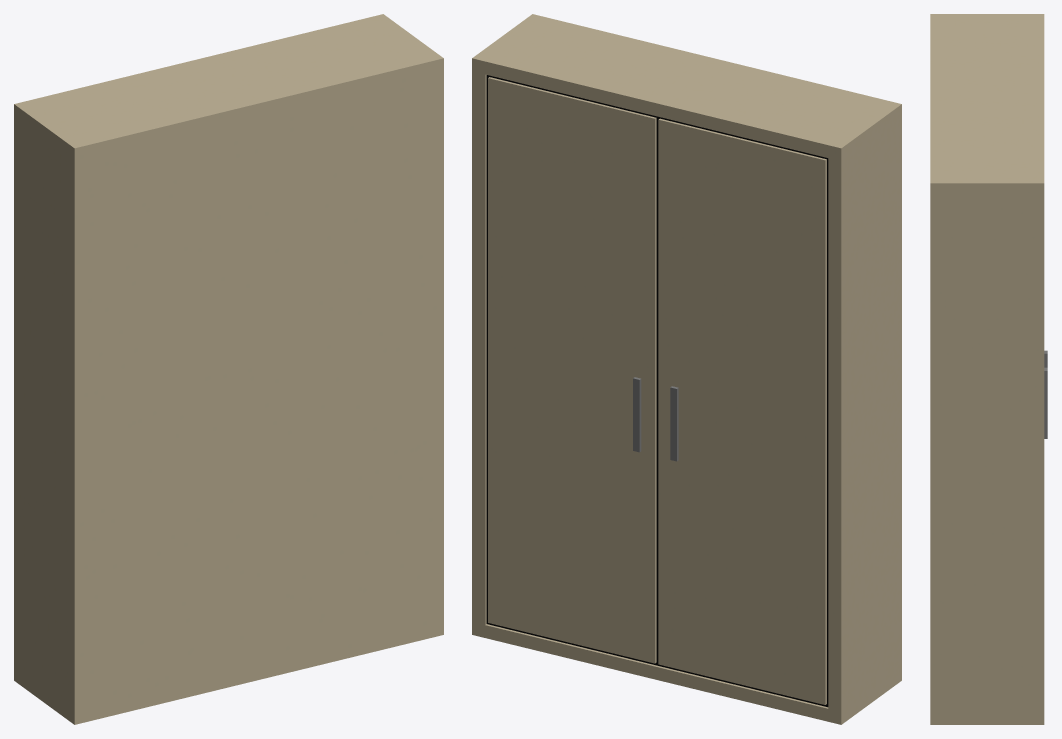
Rendered from Quarters_Dresser.fbx.
3 views of the same model, side by side, from view 1: azimuth 30°, elevation 25°; view 2: azimuth 150°, elevation 25°; view 3: azimuth 270°, elevation 25° (orthographic). The views are drawn at different scales.
Visible parts, largest first — view 1: Quarters_Dresser; view 2: Quarters_Dresser; view 3: Quarters_Dresser.
Part boxes in pixels (left/top/right/bottom): Quarters_Dresser: left=14, top=14, right=443, bottom=724; Quarters_Dresser: left=472, top=14, right=901, bottom=724; Quarters_Dresser: left=930, top=14, right=1047, bottom=724.
Size of the model in its own units: 533 by 795 by 156.
